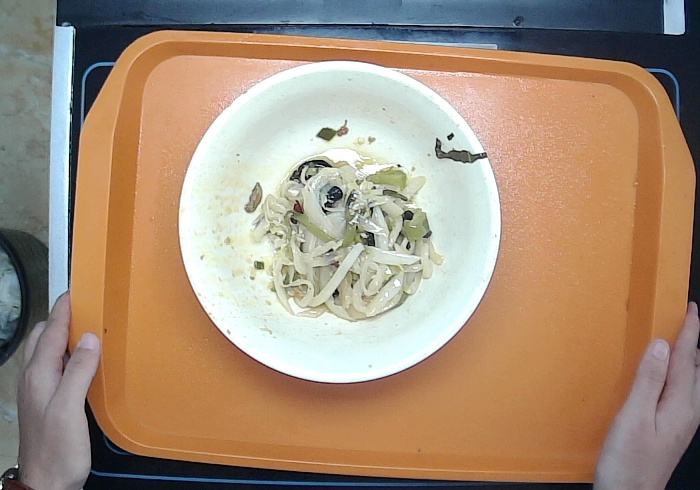ZNLD-Da_Tang_Wan: (175, 59, 502, 386)
